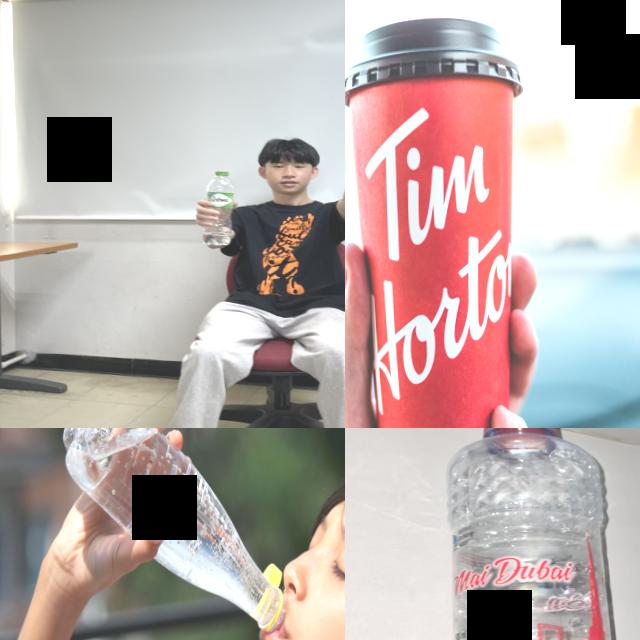bottle: (61, 428, 292, 640), (440, 428, 639, 640), (196, 168, 238, 248)
cup: (345, 12, 531, 428)
